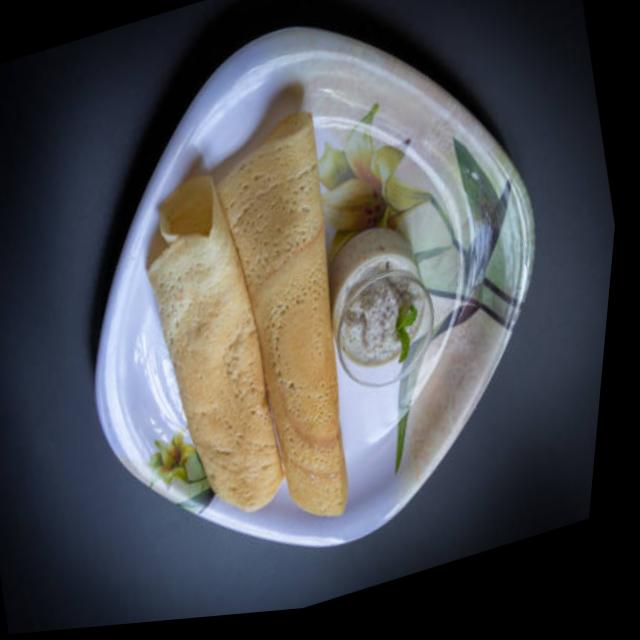DOSA: (149, 108, 347, 516)
WHITE CHUTNEY: (343, 280, 423, 365)
